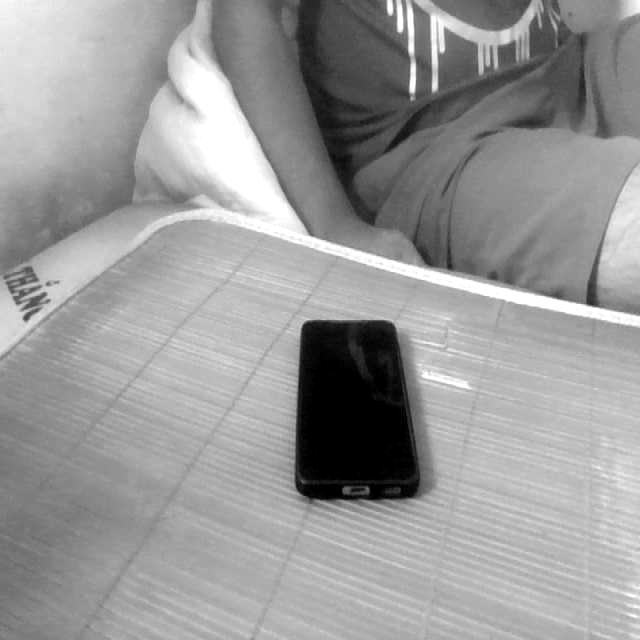phone: (280, 296, 437, 524)
